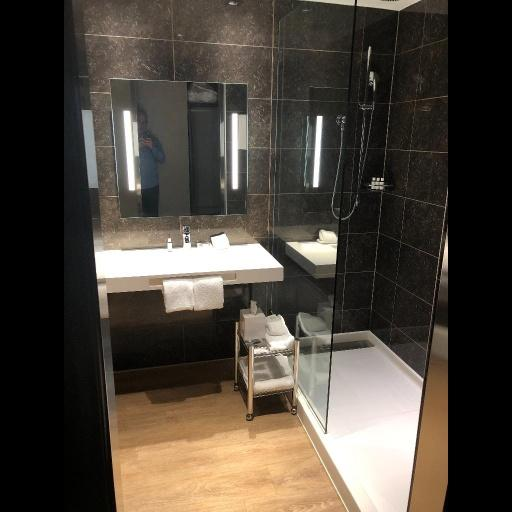clean mirror: (111, 76, 249, 219)
clean shower: (269, 4, 432, 512)
clean_floor: (117, 356, 350, 511)
clean_sink: (0, 2, 512, 512), (102, 240, 286, 295)
folded_towel: (162, 275, 227, 314)
